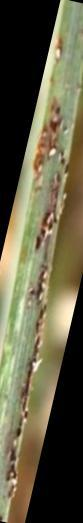Wheat: (20, 81, 79, 317)
